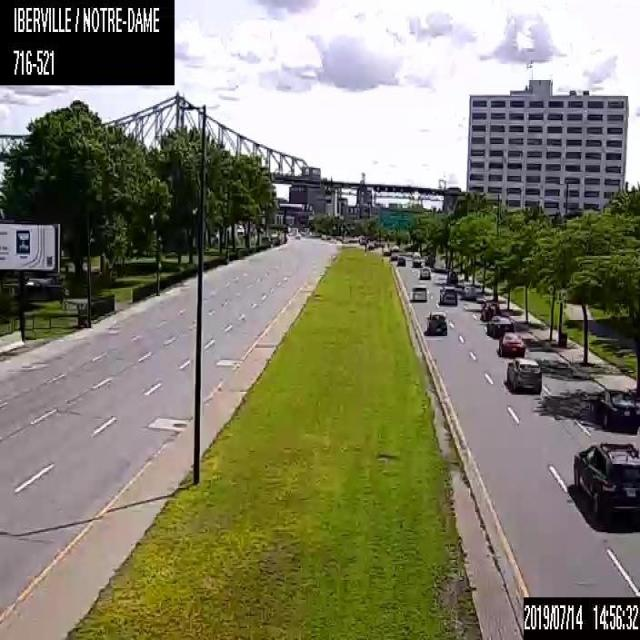vehicle: (574, 439, 639, 525), (589, 385, 639, 435), (505, 356, 542, 394), (498, 332, 525, 357), (486, 314, 513, 337), (425, 310, 447, 336), (479, 301, 501, 320), (439, 286, 457, 304), (411, 284, 427, 301), (462, 281, 476, 299), (409, 250, 424, 266), (446, 270, 458, 285), (419, 265, 430, 278), (396, 254, 405, 266), (390, 250, 397, 260), (294, 232, 300, 239)
